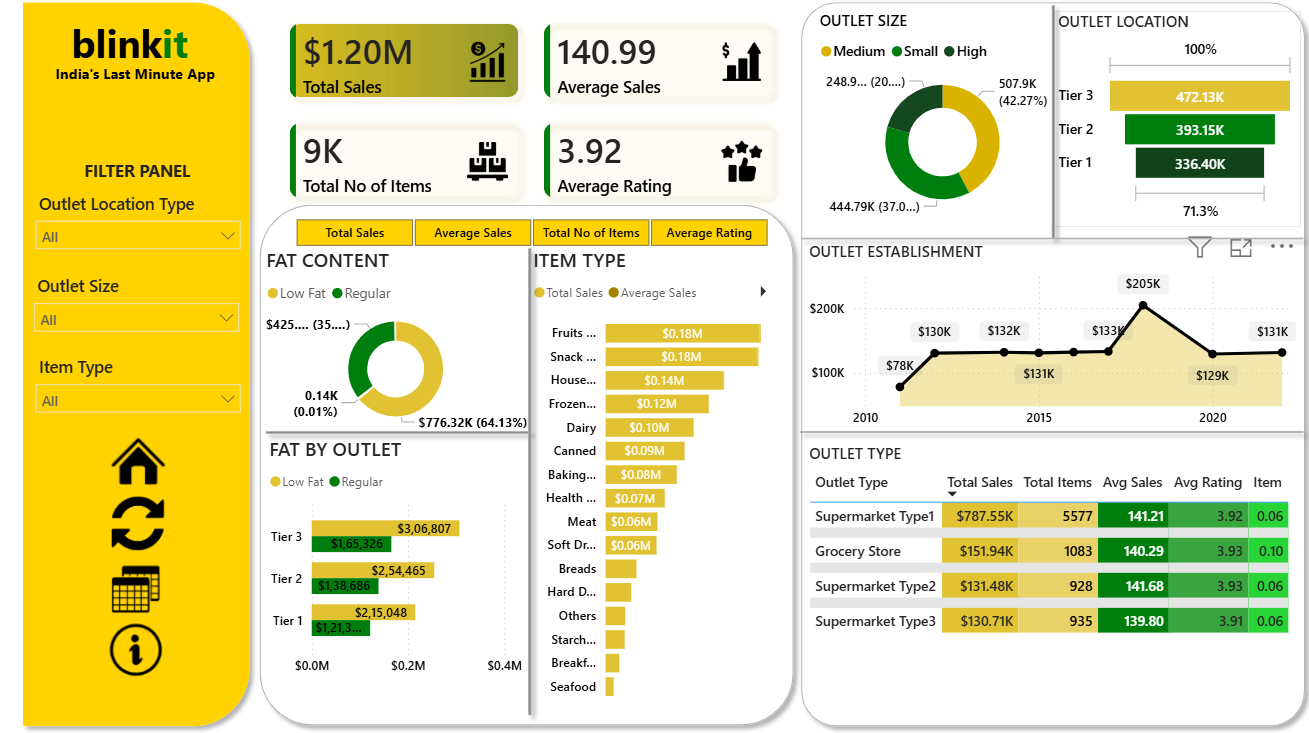

Layout of this report page (visuals, bound fields, positions):
{"tool":"powerbi","page":{"name":"Main Dashboard","canvas":[1280,720],"ordinal":0},"visuals":[{"type":"shape","box":[19.4,0,238,720.6],"z":0},{"type":"textbox","box":[8.1,0,246.1,90.7],"z":1000},{"type":"textbox","box":[19.4,45.3,236.4,90.7],"z":2000},{"type":"cardVisual","fields":{"Data":["BlinkIT Grocery Data.Total Sales","BlinkIT Grocery Data.Average Sales","BlinkIT Grocery Data.Total No of Items","BlinkIT Grocery Data.Average Rating"]},"box":[257.6,0,528.4,228.5],"z":3000},{"type":"shape","box":[249.4,195.9,536,523],"z":4000},{"type":"slicer","fields":{"Values":["Parameter.Parameter"]},"box":[267.2,212.1,506.8,34],"z":5000},{"type":"donutChart","title":"FAT CONTENT","fields":{"Y":["BlinkIT Grocery Data.Total Sales","BlinkIT Grocery Data.Average Sales","BlinkIT Grocery Data.Total No of Items","BlinkIT Grocery Data.Average Rating"],"Category":["BlinkIT Grocery Data.Item Fat Content"]},"box":[259.1,246.1,260.7,183],"z":6000},{"type":"clusteredBarChart","title":"FAT BY OUTLET","fields":{"Y":["BlinkIT Grocery Data.Total Sales"],"Category":["BlinkIT Grocery Data.Outlet Location Type"],"Series":["BlinkIT Grocery Data.Item Fat Content"]},"box":[262.3,429.1,255.8,241.3],"z":7000},{"type":"barChart","title":"ITEM TYPE","fields":{"Y":["BlinkIT Grocery Data.Total Sales","BlinkIT Grocery Data.Average Sales","BlinkIT Grocery Data.Total No of Items","BlinkIT Grocery Data.Average Rating"],"Category":["BlinkIT Grocery Data.Item Type"]},"box":[518.2,246.1,247.7,450.1],"z":8000},{"type":"shape","box":[254.7,416.3,275.1,20.4],"z":9000},{"type":"shape","box":[510.1,238,21,471.2],"z":10000},{"type":"shape","box":[774,0,506.8,720.6],"z":11000},{"type":"donutChart","title":"OUTLET SIZE","fields":{"Category":["BlinkIT Grocery Data.Outlet Size"],"Y":["Sum(BlinkIT Grocery Data.Sales)"]},"box":[796.7,16.2,247.7,207.3],"z":12000},{"type":"funnel","title":"OUTLET LOCATION","fields":{"Category":["BlinkIT Grocery Data.Outlet Location Type"],"Y":["Sum(BlinkIT Grocery Data.Sales)"]},"box":[1028.2,17.8,239.6,208.9],"z":13000},{"type":"lineChart","title":"OUTLET ESTABLISHMENT","fields":{"Y":["BlinkIT Grocery Data.Total Sales"],"Category":["BlinkIT Grocery Data.Outlet Establishment Year"]},"box":[785.3,239.6,482.5,189.4],"z":14000},{"type":"tableEx","title":"OUTLET TYPE","fields":{"Values":["BlinkIT Grocery Data.Outlet Type","BlinkIT Grocery Data.Total Sales","BlinkIT Grocery Data.Total No of Items","BlinkIT Grocery Data.Average Sales","BlinkIT Grocery Data.Average Rating","Avg(BlinkIT Grocery Data.Item Visibility)"]},"box":[785.3,437.2,482.5,259.1],"z":15000},{"type":"shape","box":[1016.9,3.2,21,244.5],"z":16000},{"type":"shape","box":[774,228.3,505.2,19.4],"z":17000},{"type":"shape","box":[773.2,416.1,506.8,19.4],"z":18000},{"type":"slicer","fields":{"Values":["BlinkIT Grocery Data.Outlet Location Type"]},"box":[30.8,187.8,218.6,79.3],"z":19000},{"type":"slicer","fields":{"Values":["BlinkIT Grocery Data.Outlet Size"]},"box":[29.1,267.2,218.6,79.3],"z":20000},{"type":"slicer","fields":{"Values":["BlinkIT Grocery Data.Item Type"]},"box":[30.8,346.5,218.6,79.3],"z":21000},{"type":"textbox","box":[20.4,155.7,237.3,32],"z":22000},{"type":"actionButton","box":[108.5,424.2,69.6,61.5],"z":23000},{"type":"actionButton","box":[113.3,484.1,51.8,59.9],"z":24000},{"type":"actionButton","box":[87.4,527.9,102,100.4],"z":25000},{"type":"actionButton","box":[100.4,587.8,74.5,98.8],"z":26000}]}

Visuals, with their boxes in screenshot pixels (x1, y1, x2, y2), scaled from the page's 1280x720 canvas onto the 1309x733 screenshot:
shape: bbox=(20, 0, 263, 732)
textbox: bbox=(8, 0, 260, 92)
textbox: bbox=(20, 46, 262, 138)
cardVisual - BlinkIT Grocery Data.Total Sales x BlinkIT Grocery Data.Average Sales: bbox=(263, 0, 804, 233)
shape: bbox=(255, 199, 803, 732)
slicer - Parameter.Parameter: bbox=(273, 216, 792, 251)
"FAT CONTENT" donutChart: bbox=(265, 251, 532, 437)
"FAT BY OUTLET" clusteredBarChart: bbox=(268, 437, 530, 683)
"ITEM TYPE" barChart: bbox=(530, 251, 783, 709)
shape: bbox=(260, 424, 542, 445)
shape: bbox=(522, 242, 543, 722)
shape: bbox=(792, 0, 1308, 732)
"OUTLET SIZE" donutChart: bbox=(815, 16, 1068, 228)
"OUTLET LOCATION" funnel: bbox=(1051, 18, 1297, 231)
"OUTLET ESTABLISHMENT" lineChart: bbox=(803, 244, 1297, 437)
"OUTLET TYPE" tableEx: bbox=(803, 445, 1297, 709)
shape: bbox=(1040, 3, 1061, 252)
shape: bbox=(792, 232, 1308, 252)
shape: bbox=(791, 424, 1308, 443)
slicer - BlinkIT Grocery Data.Outlet Location Type: bbox=(31, 191, 255, 272)
slicer - BlinkIT Grocery Data.Outlet Size: bbox=(30, 272, 253, 353)
slicer - BlinkIT Grocery Data.Item Type: bbox=(31, 353, 255, 433)
textbox: bbox=(21, 159, 264, 191)
actionButton: bbox=(111, 432, 182, 494)
actionButton: bbox=(116, 493, 169, 554)
actionButton: bbox=(89, 537, 194, 640)
actionButton: bbox=(103, 598, 179, 699)
